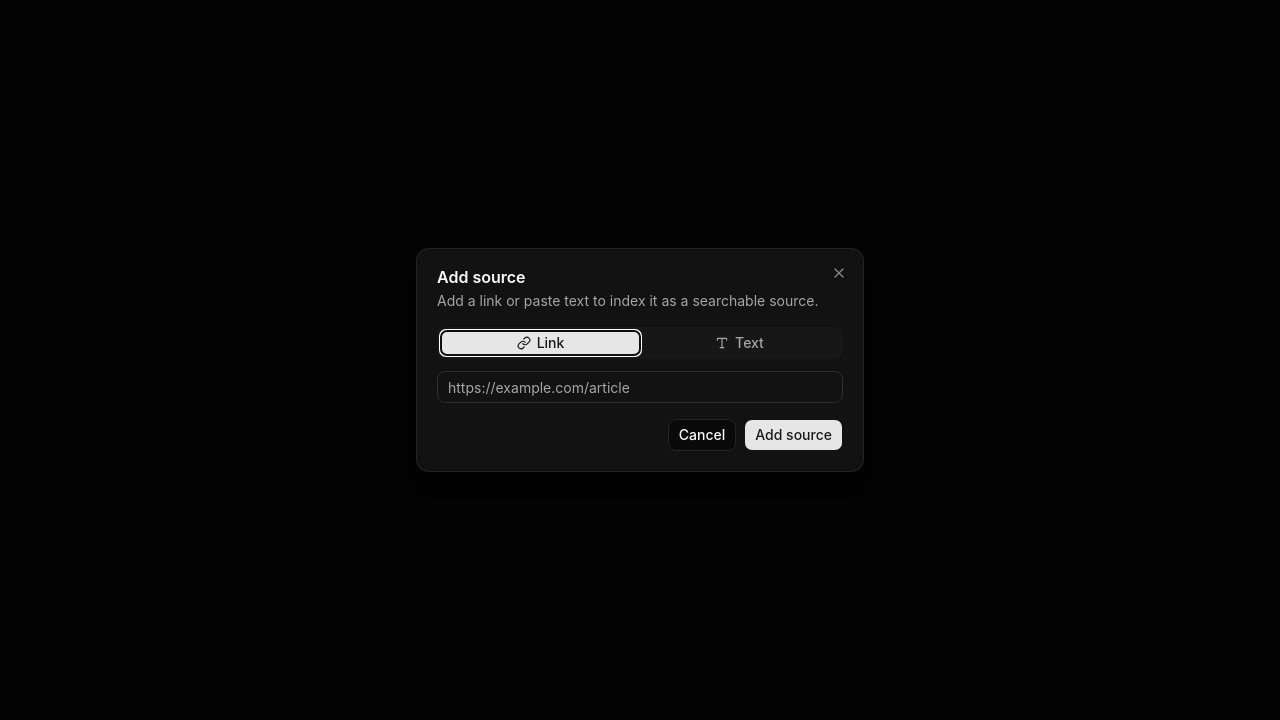
Test: SourceUploadDialog › renders labelled link and text fields
Check: the field named "Source URL" is shown, box [437, 371, 843, 403]
What coordinates should you click on to do the following:
click the tab "Text"
I would click on:
 (740, 343)
Its box is [640, 331, 839, 355].
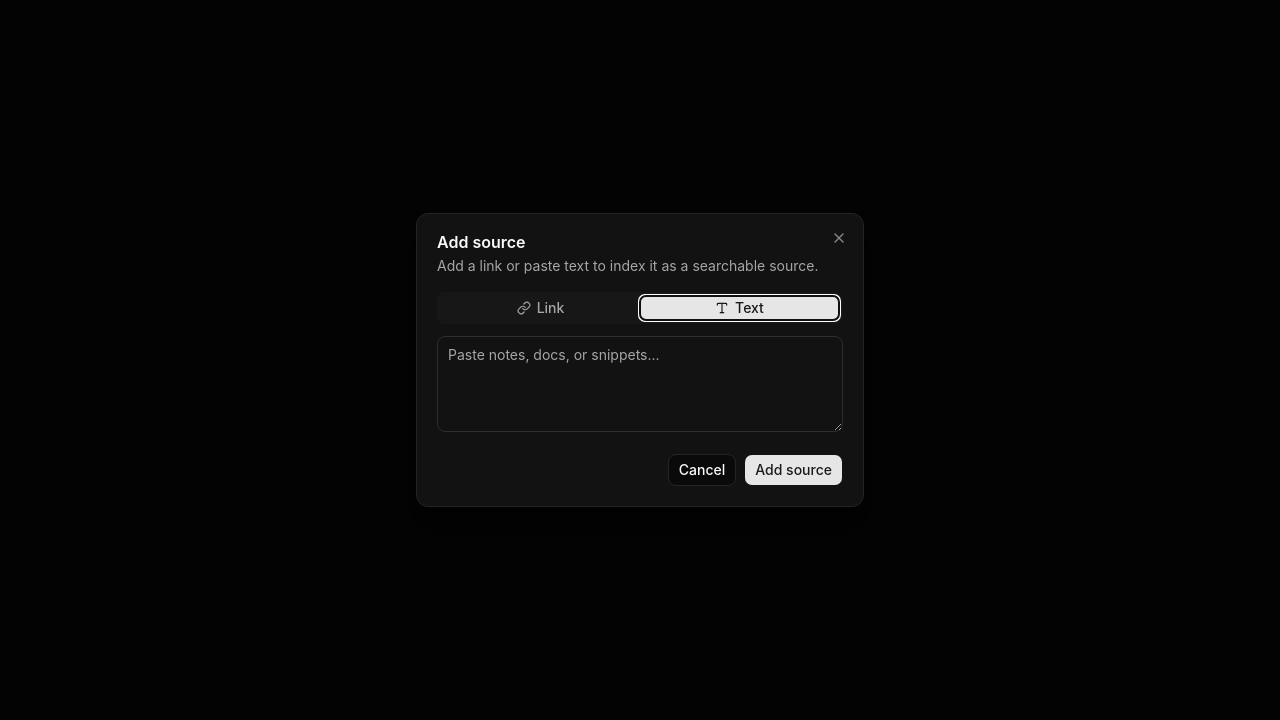
Check: the text box named "Source text" is shown, box [437, 336, 843, 432]
